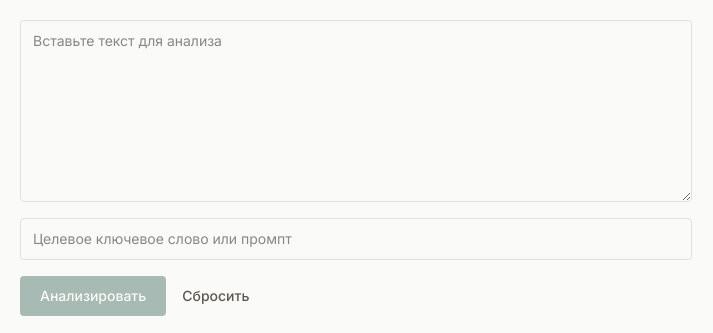
Test: TextModePanel › Анализировать button is enabled when both fields are filled
In the text box with placeholder "Вставьте текст для анализа": (356, 111) [20,20,692,202], type "some text here"
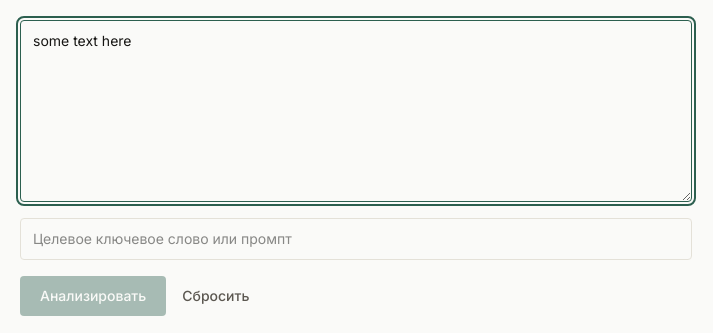
In the field with placeholder "Целевое ключевое слово или промпт": (356, 239) [20,218,692,260], type "keyword"
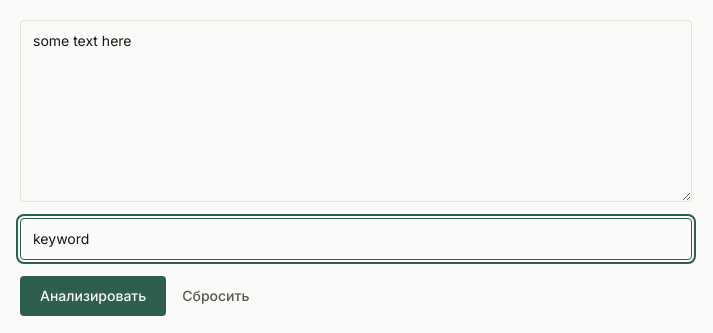
Expected: the button "Анализировать" is enabled, [20,276,166,316]
